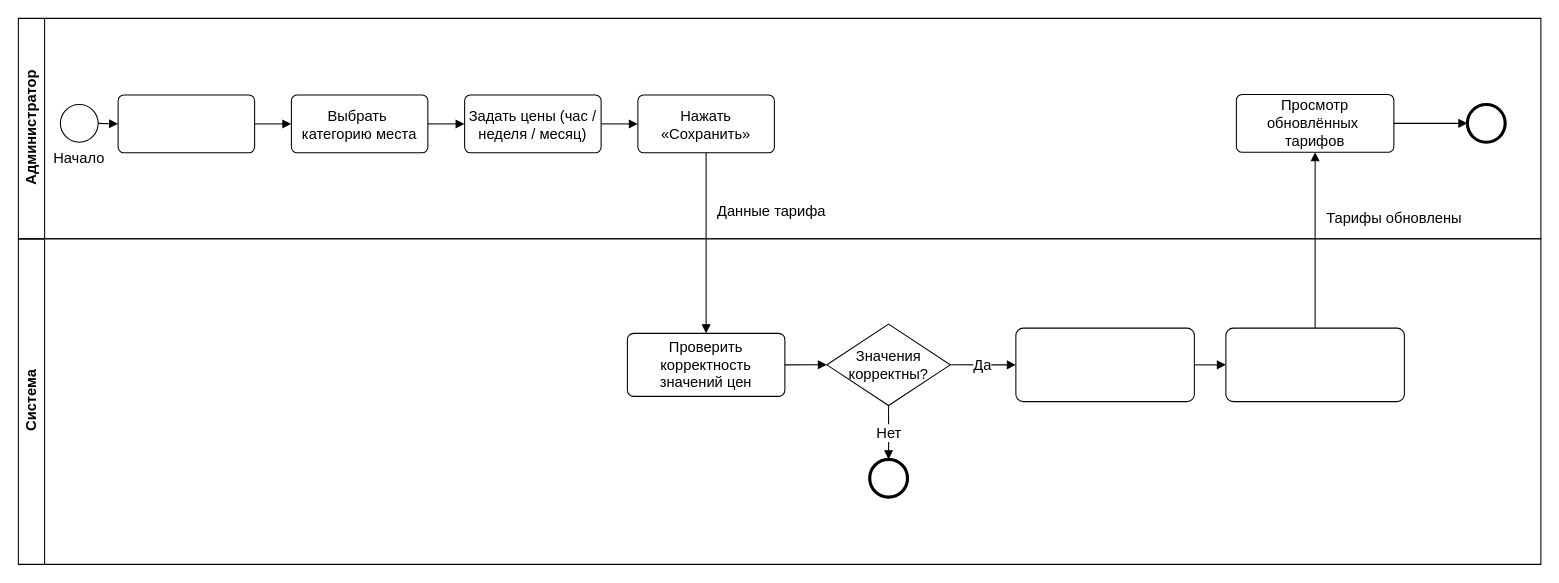
Image size: 1559x583. Some labels were removed from this diagram. The centre of each missing label's shape, as x and y in pixels:
"Обновить отображение цен при бронировании" goes at point 1314,364.
"Отказ: неверные цены" goes at point 888,477.
"Открыть раздел тарифов" goes at point 186,123.
"Сохранить тариф" goes at point 1104,364.
"Тариф сохранён" goes at point 1485,122.
